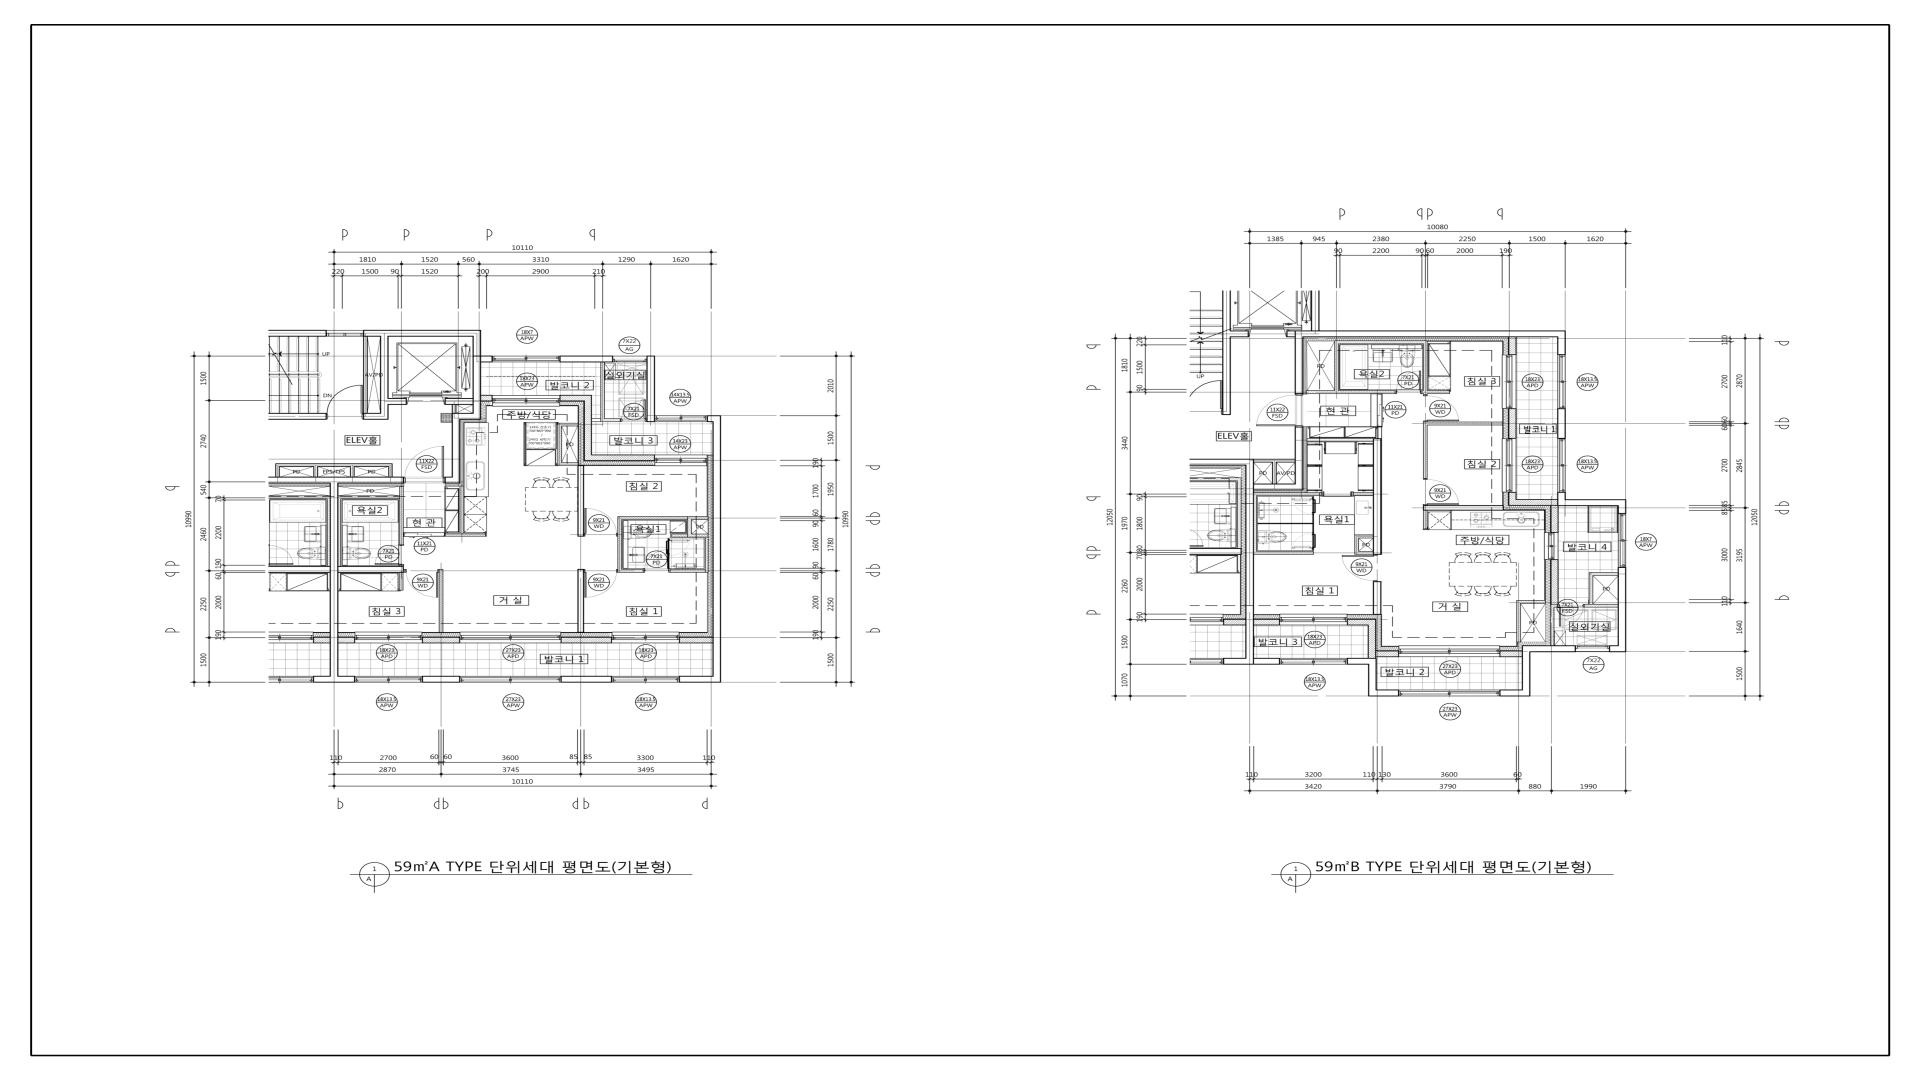door: (404, 446, 444, 484), (1257, 394, 1303, 427), (326, 385, 364, 419), (1189, 381, 1222, 414), (584, 508, 618, 537), (1423, 394, 1458, 422), (1341, 555, 1378, 582), (584, 570, 618, 597), (1423, 479, 1458, 505), (406, 570, 439, 597), (1395, 371, 1422, 394), (644, 549, 670, 572), (375, 545, 404, 566), (1559, 604, 1584, 628), (621, 400, 646, 422), (1377, 393, 1382, 427), (1321, 492, 1353, 497)
wall: (712, 422, 721, 676), (1303, 330, 1557, 338), (1245, 465, 1254, 665), (330, 484, 339, 675), (1373, 438, 1382, 555), (268, 476, 404, 484), (1222, 290, 1230, 415), (472, 330, 481, 413), (363, 330, 472, 336), (380, 336, 389, 413), (1618, 567, 1626, 646), (646, 356, 655, 422), (583, 401, 592, 460), (452, 413, 460, 477), (1295, 331, 1303, 394), (1522, 645, 1531, 696), (578, 465, 584, 537), (276, 463, 393, 467), (1557, 500, 1626, 506), (1295, 427, 1303, 484), (339, 566, 404, 572), (1189, 459, 1254, 465), (1423, 505, 1502, 510), (578, 568, 584, 632), (560, 675, 612, 683), (363, 336, 368, 413), (1507, 498, 1557, 506), (268, 330, 327, 336), (268, 413, 327, 419), (1311, 290, 1320, 331), (1422, 340, 1428, 396), (559, 356, 613, 363), (1551, 559, 1559, 604), (1307, 390, 1395, 394), (560, 637, 612, 644), (1338, 340, 1423, 344), (592, 455, 655, 460), (1254, 484, 1303, 491), (1367, 625, 1377, 658), (422, 675, 460, 683), (1531, 645, 1576, 651), (600, 363, 605, 418), (1507, 409, 1516, 439), (1557, 409, 1567, 439), (679, 676, 721, 683), (617, 517, 622, 570), (338, 496, 342, 566), (1373, 582, 1381, 615), (1257, 492, 1321, 496), (422, 637, 460, 644), (439, 570, 443, 632), (1367, 665, 1377, 690), (400, 487, 404, 545), (1257, 551, 1313, 555), (1423, 422, 1427, 479), (1551, 505, 1559, 533), (679, 637, 712, 644), (1367, 690, 1399, 696), (1427, 422, 1503, 425), (1346, 618, 1377, 625), (1335, 340, 1338, 390), (330, 675, 355, 683), (1348, 658, 1377, 665), (1557, 331, 1565, 355), (460, 487, 464, 533), (444, 398, 472, 405), (1307, 439, 1373, 442), (1254, 618, 1280, 625), (1254, 658, 1280, 665), (622, 517, 688, 520), (1516, 600, 1520, 642), (560, 396, 592, 401), (364, 413, 389, 419), (1254, 492, 1257, 554), (1254, 459, 1295, 463), (446, 533, 485, 537), (558, 426, 562, 465), (342, 496, 400, 498), (1499, 690, 1522, 696), (1377, 650, 1399, 657), (1499, 650, 1522, 657), (1551, 608, 1555, 645), (460, 413, 481, 419), (1509, 338, 1516, 355), (1609, 645, 1626, 653), (1589, 572, 1593, 604), (444, 476, 460, 484), (1230, 331, 1249, 338), (389, 398, 407, 405), (524, 422, 526, 465), (338, 637, 355, 644), (1593, 572, 1618, 576), (1520, 600, 1545, 604), (707, 415, 721, 422), (670, 570, 705, 572), (705, 537, 708, 572), (1584, 604, 1618, 607), (687, 517, 692, 534), (1273, 463, 1276, 484), (1428, 390, 1449, 394), (1354, 534, 1358, 554), (1353, 492, 1373, 496), (601, 418, 621, 422), (481, 356, 493, 363), (481, 394, 493, 401), (1423, 510, 1427, 529), (400, 572, 404, 591), (617, 570, 644, 572), (1509, 492, 1516, 500), (1557, 492, 1565, 500), (1618, 506, 1626, 514), (388, 467, 393, 477), (687, 534, 708, 537), (1360, 534, 1373, 538), (1287, 331, 1295, 338), (558, 423, 578, 426), (349, 467, 355, 476), (1378, 427, 1382, 438), (314, 467, 318, 477), (692, 517, 708, 520), (671, 534, 687, 537), (562, 463, 578, 465), (555, 450, 558, 465), (526, 448, 558, 450), (1358, 551, 1373, 554), (276, 467, 280, 476), (556, 422, 558, 448), (1551, 604, 1559, 608), (404, 570, 405, 572), (400, 566, 404, 566)
window: (460, 632, 560, 644), (1399, 646, 1499, 657), (1279, 613, 1348, 625), (612, 632, 679, 644), (355, 632, 422, 644), (1502, 355, 1516, 409), (1502, 439, 1516, 492), (492, 396, 560, 406), (1399, 690, 1499, 696), (655, 455, 707, 467), (460, 676, 560, 682), (612, 676, 679, 683), (1280, 658, 1346, 665), (493, 356, 559, 363), (1618, 513, 1626, 567), (1557, 355, 1565, 409), (1557, 439, 1565, 492), (1544, 533, 1559, 559), (355, 676, 422, 682), (654, 415, 707, 422), (327, 330, 363, 336), (613, 356, 646, 363), (1576, 646, 1609, 651)
